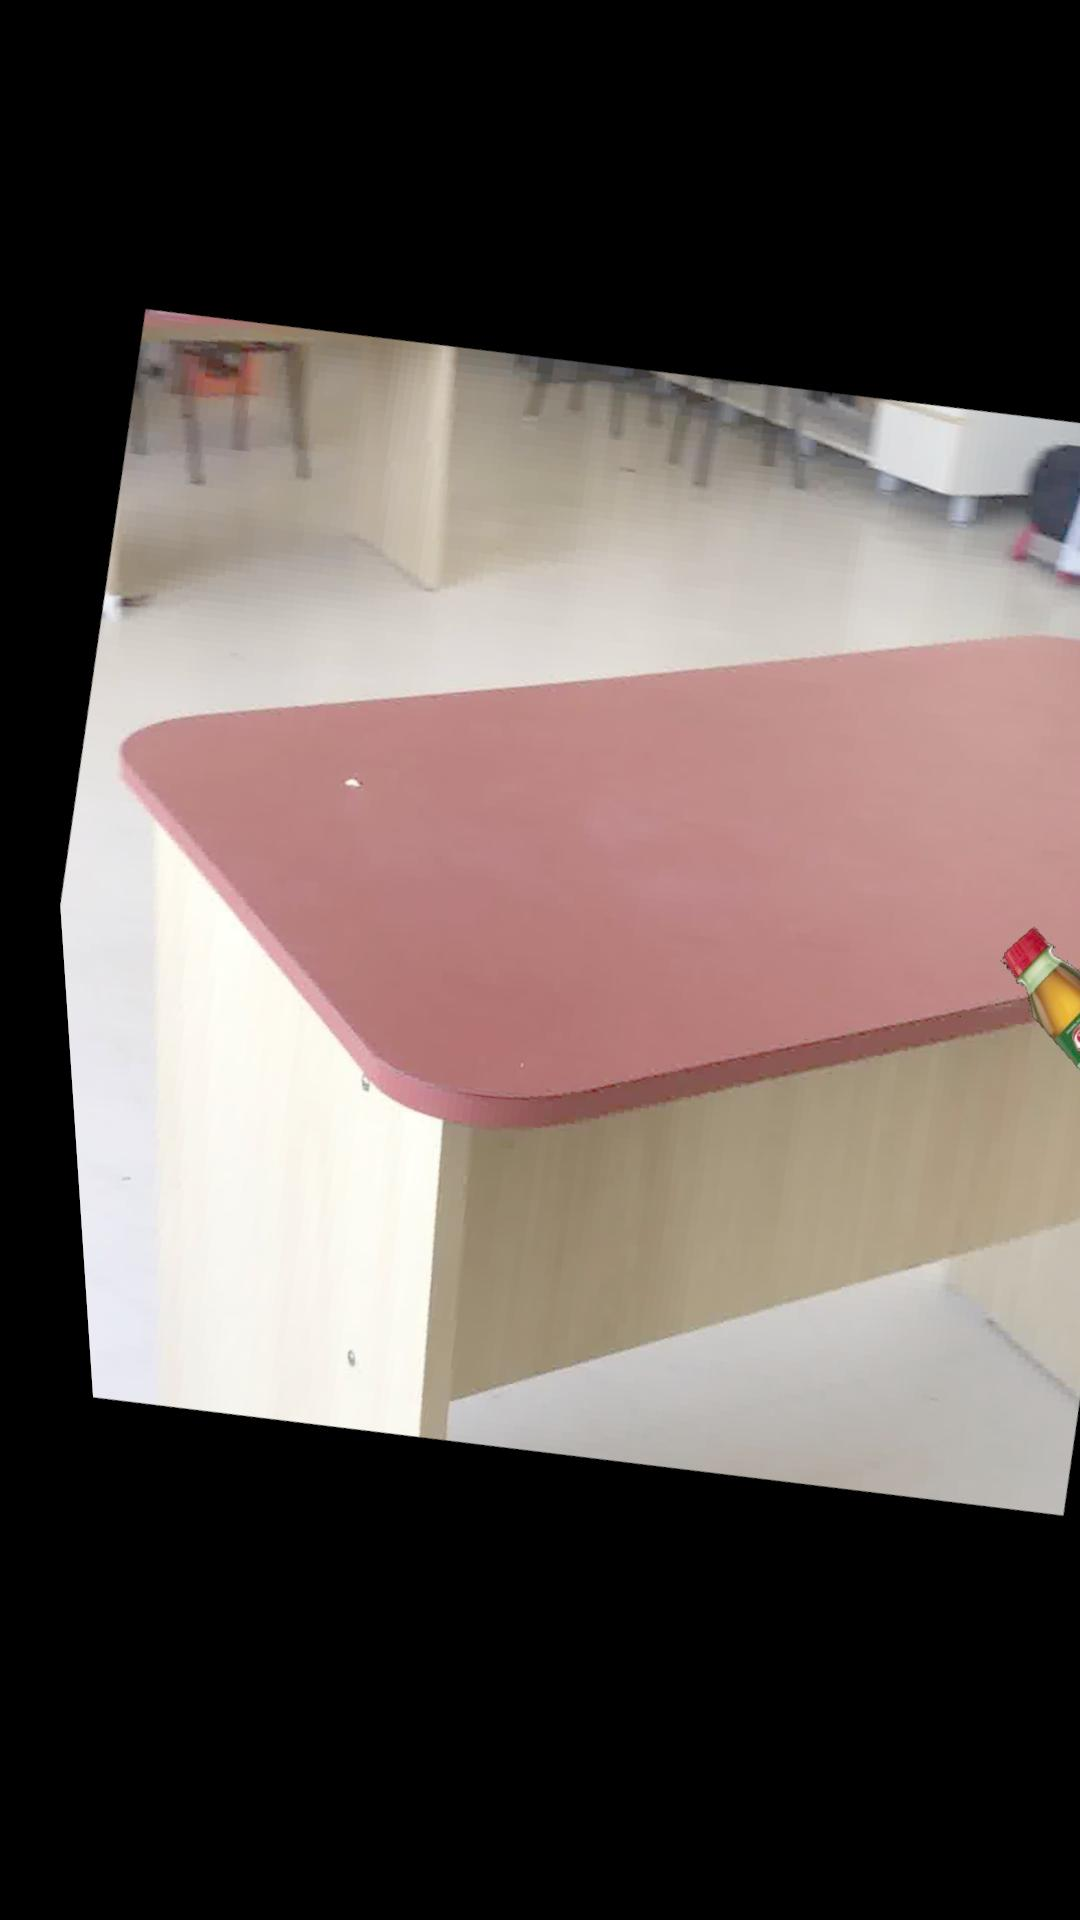guarana: (986, 945, 1080, 1112)
